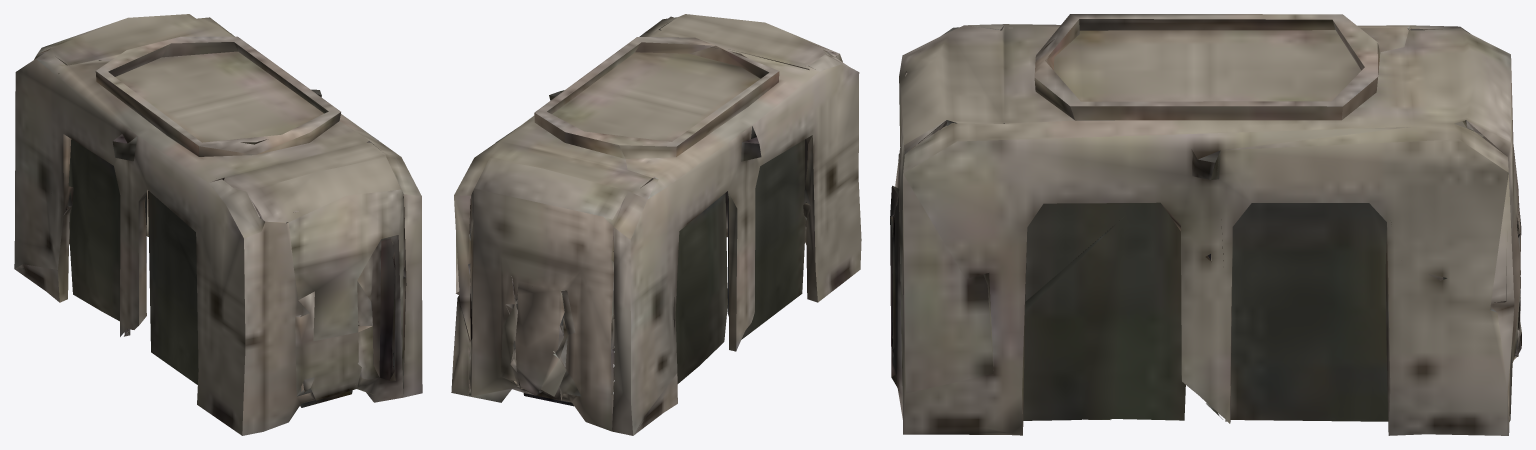
Rendered from barracks_1278772040_lod0m.glb.
3 views of the same model, side by side, from view 1: azimuth 30°, elevation 25°; view 2: azimuth 150°, elevation 25°; view 3: azimuth 270°, elevation 25° (orthographic). The views are drawn at different scales.
Size of the model in its own units: 7.05 by 7.77 by 13.97.
Materials: 1 (1 with a texture image).
